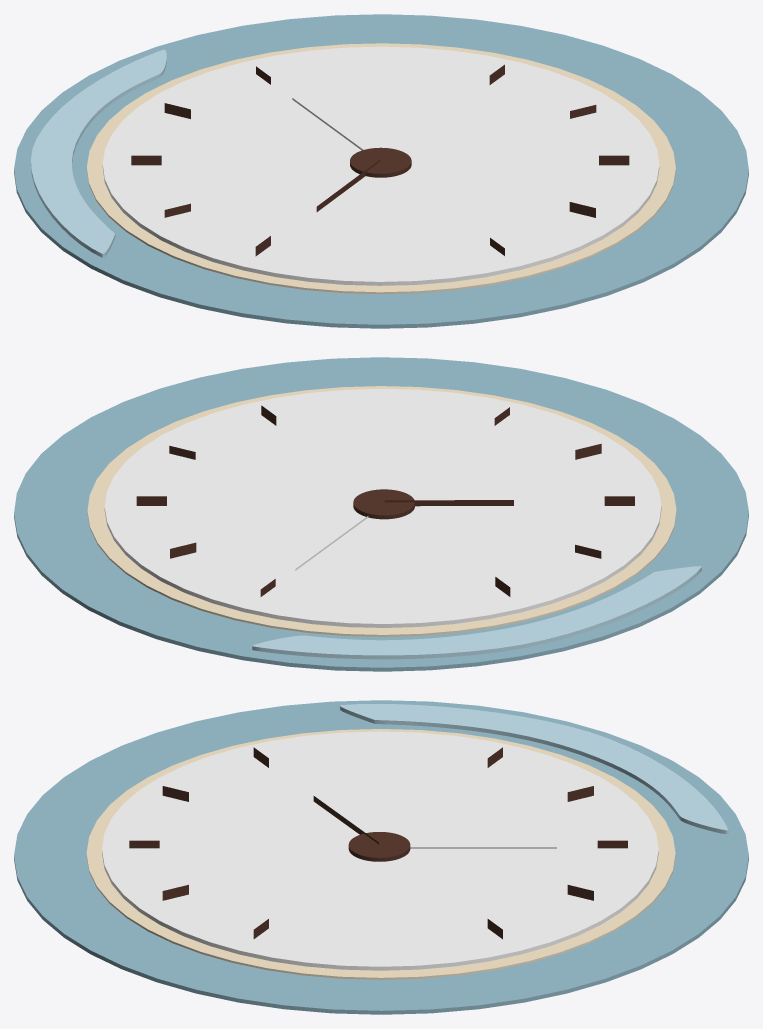
The model's file is emoji_u1f557.glb.
3 renders of one model, top to bottom at view 1: azimuth 30°, elevation 25°; view 2: azimuth 150°, elevation 25°; view 3: azimuth 270°, elevation 25°, orthographic.
Parts seen in each view (by area): view 1: emoji_u1f557; view 2: emoji_u1f557; view 3: emoji_u1f557.
Boxes of the visible parts, box(x1,y1,x2,y2) form: emoji_u1f557: box(14, 14, 748, 328); emoji_u1f557: box(14, 357, 748, 671); emoji_u1f557: box(14, 700, 748, 1014).
Bounding box in the file's own units: 0.0339 × 0.0018 × 0.0339.
